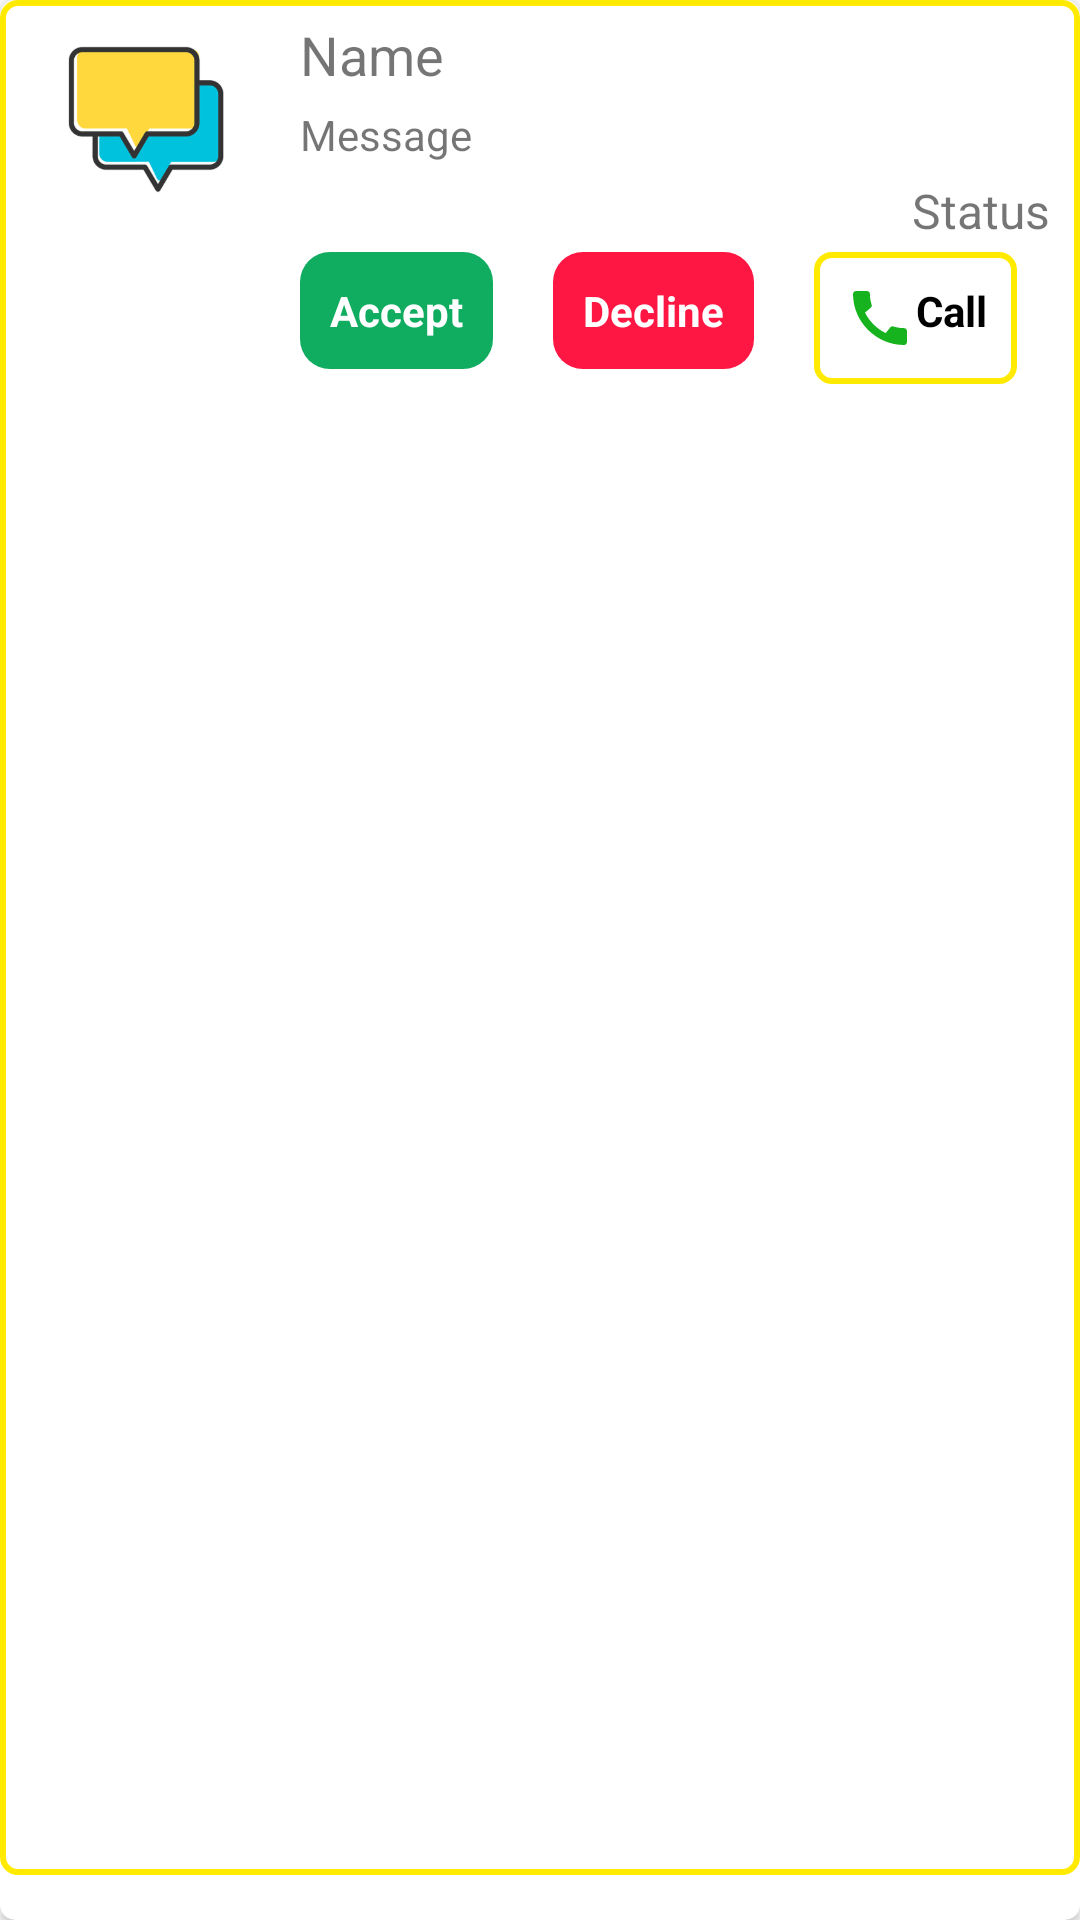

Where to tap for icons on this 1080px x 1920px app screen, as point (x, y):
chat: point (146, 119)
